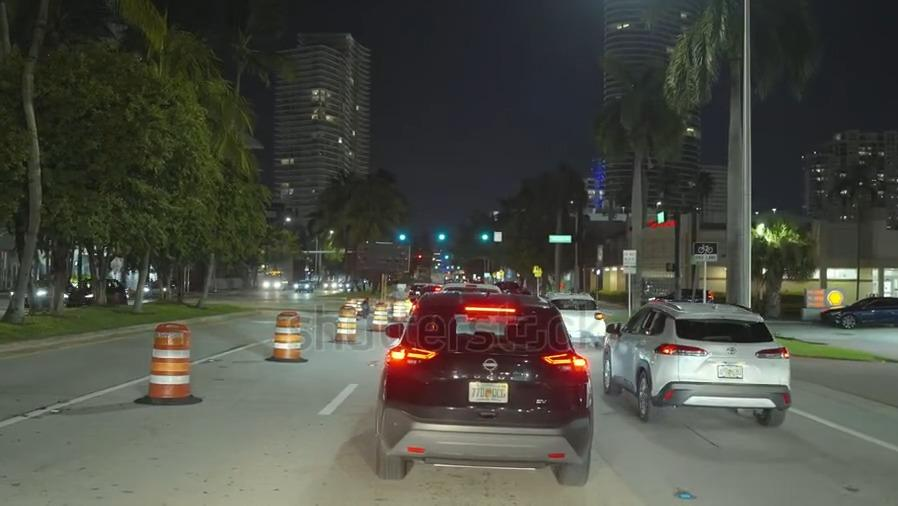bus: (262, 268, 287, 291)
car: (381, 294, 595, 479), (605, 300, 786, 431), (549, 289, 606, 345), (817, 295, 898, 327), (71, 275, 127, 307), (9, 276, 66, 307), (646, 283, 714, 307), (144, 275, 180, 299), (293, 279, 312, 291)
cone: (147, 320, 188, 398), (270, 308, 300, 362), (333, 303, 356, 343), (371, 299, 387, 331), (388, 295, 406, 323)
traffic light: (429, 227, 454, 250), (476, 227, 494, 251), (395, 231, 407, 245)
wheel: (632, 363, 652, 423), (601, 348, 618, 392)
